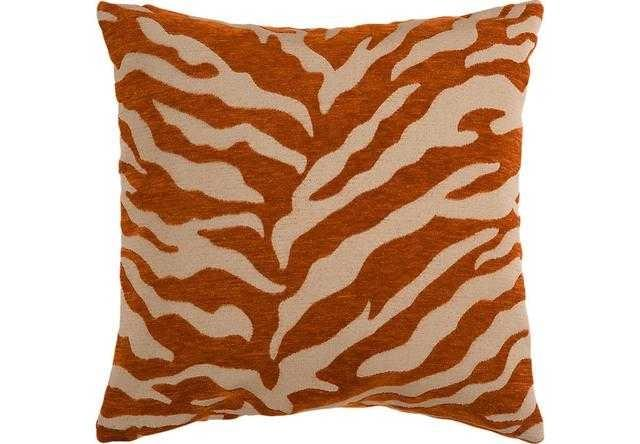pillow: (94, 0, 546, 442)
